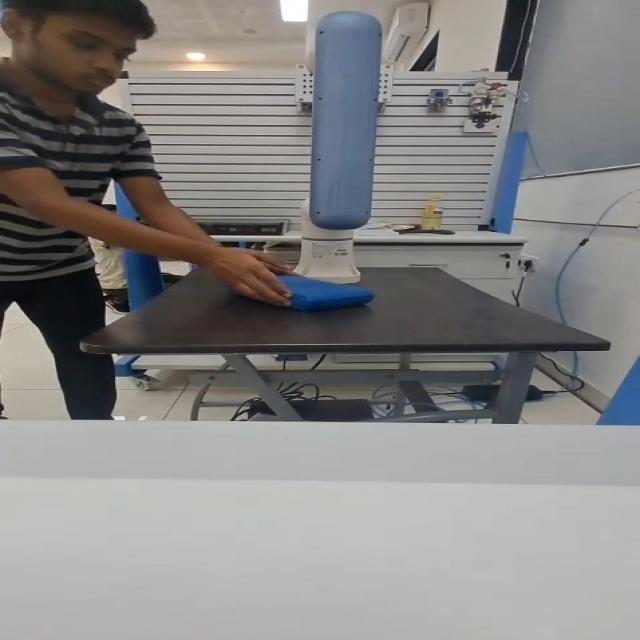top-surface: (269, 277, 358, 295)
